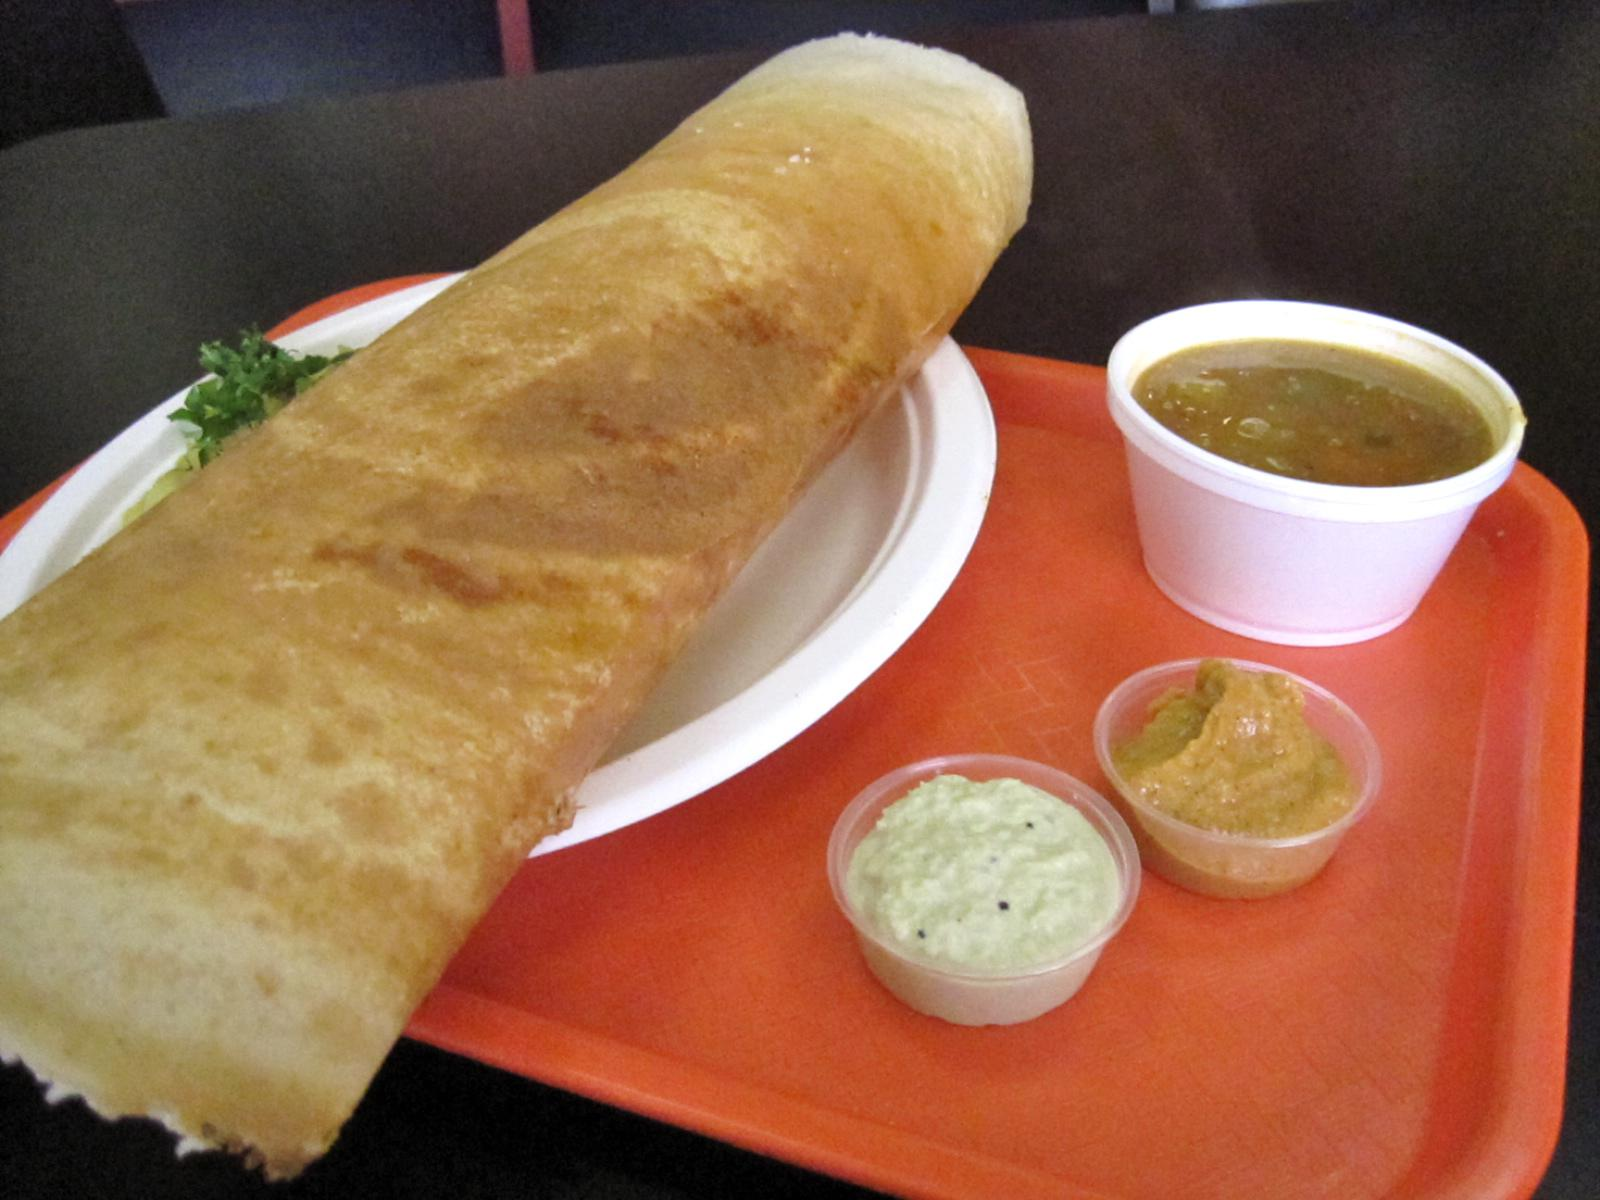dosa: (8, 3, 1039, 1199)
